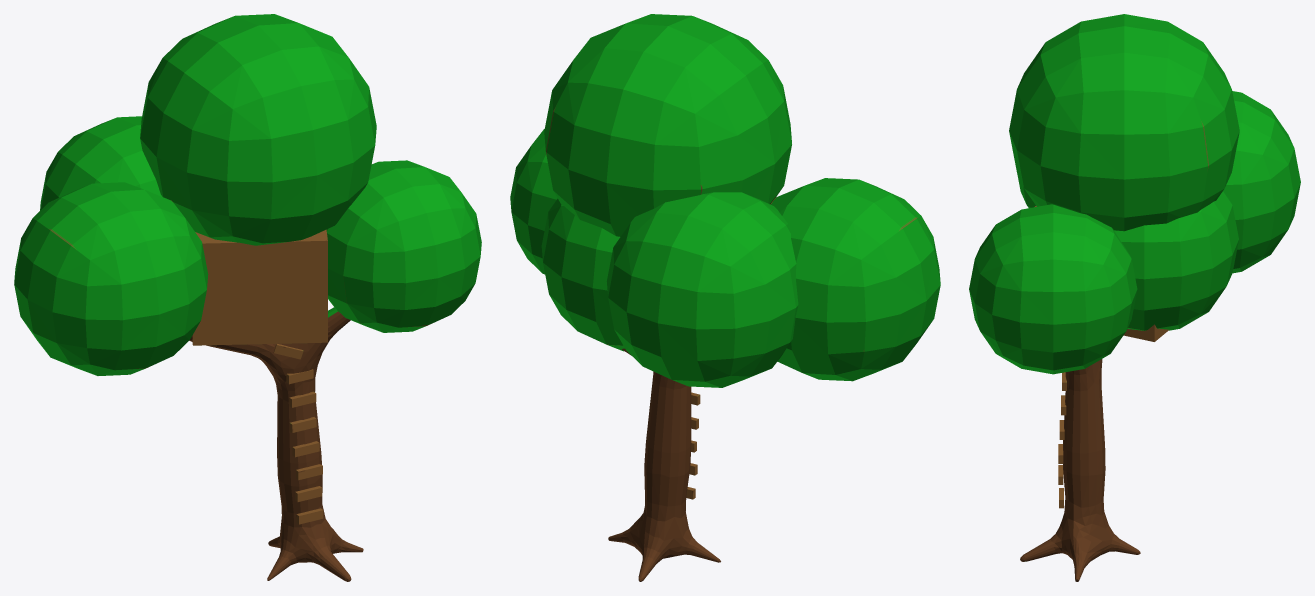
The model's file is CasaArbol.obj.
The picture shows the model from 3 angles, left to right: view 1: azimuth 30°, elevation 25°; view 2: azimuth 150°, elevation 25°; view 3: azimuth 270°, elevation 25°; orthographic projection. The views are drawn at different scales.
Parts seen in each view (by area): view 1: Cube.005_Cube.016; view 2: Cube.005_Cube.016; view 3: Cube.005_Cube.016.
Boxes of the visible parts, <box> form: Cube.005_Cube.016: <box>14,14,481,581</box>; Cube.005_Cube.016: <box>510,14,940,581</box>; Cube.005_Cube.016: <box>969,14,1300,581</box>.
Size of the model in its own units: 124 by 151 by 87.52.
Materials: 1 (1 with a texture image).
